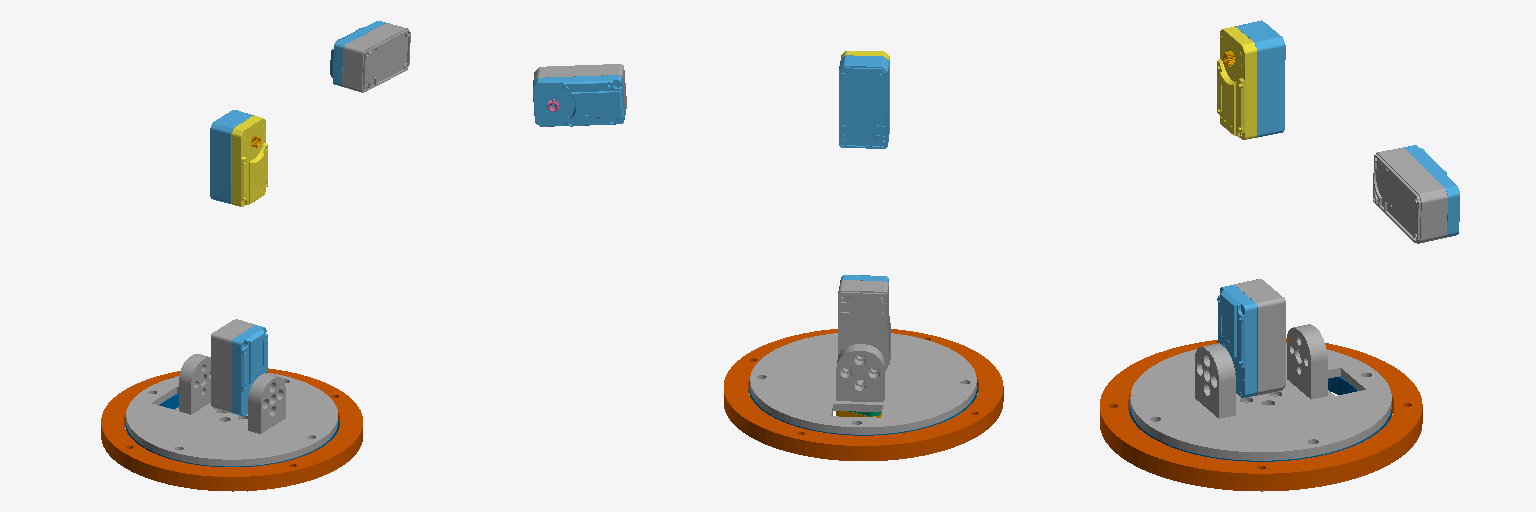
The robot description file, URDF, robot "PuppyArm":
<?xml version="1.0"?>
<robot name="PuppyArm">
  <link name="base_link"/>
  <link name="Part_1_3">
    <visual>
      <origin xyz="0 0 0" rpy="0 0 0"/>
      <geometry>
        <mesh filename="meshes/Part_1_3.stl"/>
      </geometry>
    </visual>
    <collision>
      <origin xyz="0 0 0" rpy="0 0 0"/>
      <geometry>
        <mesh filename="meshes/Part_1_3.stl"/>
      </geometry>
    </collision>
  </link>
  <link name="Part_1_8">
    <visual>
      <origin xyz="0 0 0" rpy="0 0 0"/>
      <geometry>
        <mesh filename="meshes/Part_1_8.stl"/>
      </geometry>
    </visual>
    <collision>
      <origin xyz="0 0 0" rpy="0 0 0"/>
      <geometry>
        <mesh filename="meshes/Part_1_8.stl"/>
      </geometry>
    </collision>
  </link>
  <link name="Part_1_1">
    <visual>
      <origin xyz="0 0 0" rpy="0 0 0"/>
      <geometry>
        <mesh filename="meshes/Part_1_1.stl"/>
      </geometry>
    </visual>
    <collision>
      <origin xyz="0 0 0" rpy="0 0 0"/>
      <geometry>
        <mesh filename="meshes/Part_1_1.stl"/>
      </geometry>
    </collision>
  </link>
  <link name="PCB_CHAZUO_92_1">
    <visual>
      <origin xyz="0 0 0" rpy="0 0 0"/>
      <geometry>
        <mesh filename="meshes/PCB_CHAZUO_92_1.stl"/>
      </geometry>
    </visual>
    <collision>
      <origin xyz="0 0 0" rpy="0 0 0"/>
      <geometry>
        <mesh filename="meshes/PCB_CHAZUO_92_1.stl"/>
      </geometry>
    </collision>
  </link>
  <link name="v2_1">
    <visual>
      <origin xyz="0 0 0" rpy="0 0 0"/>
      <geometry>
        <mesh filename="meshes/v2_1_2.stl"/>
      </geometry>
    </visual>
    <collision>
      <origin xyz="0 0 0" rpy="0 0 0"/>
      <geometry>
        <mesh filename="meshes/v2_1_2.stl"/>
      </geometry>
    </collision>
  </link>
  <link name="v2_1_2">
    <visual>
      <origin xyz="0 0 0" rpy="0 0 0"/>
      <geometry>
        <mesh filename="meshes/v2_1.stl"/>
      </geometry>
    </visual>
    <collision>
      <origin xyz="0 0 0" rpy="0 0 0"/>
      <geometry>
        <mesh filename="meshes/v2_1.stl"/>
      </geometry>
    </collision>
  </link>
  <link name="GE_27_1">
    <visual>
      <origin xyz="0 0 0" rpy="0 0 0"/>
      <geometry>
        <mesh filename="meshes/GE_27_1.stl"/>
      </geometry>
    </visual>
    <collision>
      <origin xyz="0 0 0" rpy="0 0 0"/>
      <geometry>
        <mesh filename="meshes/GE_27_1.stl"/>
      </geometry>
    </collision>
  </link>
  <link name="ZK_122_1">
    <visual>
      <origin xyz="0 0 0" rpy="0 0 0"/>
      <geometry>
        <mesh filename="meshes/ZK_122_1.stl"/>
      </geometry>
    </visual>
    <collision>
      <origin xyz="0 0 0" rpy="0 0 0"/>
      <geometry>
        <mesh filename="meshes/ZK_122_1.stl"/>
      </geometry>
    </collision>
  </link>
  <link name="MOTOR_1723_3_1">
    <visual>
      <origin xyz="0 0 0" rpy="0 0 0"/>
      <geometry>
        <mesh filename="meshes/MOTOR_1723_3_1.stl"/>
      </geometry>
    </visual>
    <collision>
      <origin xyz="0 0 0" rpy="0 0 0"/>
      <geometry>
        <mesh filename="meshes/MOTOR_1723_3_1.stl"/>
      </geometry>
    </collision>
  </link>
  <link name="SG_ZIJI_15_1">
    <visual>
      <origin xyz="0 0 0" rpy="0 0 0"/>
      <geometry>
        <mesh filename="meshes/SG_ZIJI_15_1.stl"/>
      </geometry>
    </visual>
    <collision>
      <origin xyz="0 0 0" rpy="0 0 0"/>
      <geometry>
        <mesh filename="meshes/SG_ZIJI_15_1.stl"/>
      </geometry>
    </collision>
  </link>
  <link name="XG_ZIJI_16_1">
    <visual>
      <origin xyz="0 0 0" rpy="0 0 0"/>
      <geometry>
        <mesh filename="meshes/XG_ZIJI_16_1.stl"/>
      </geometry>
    </visual>
    <collision>
      <origin xyz="0 0 0" rpy="0 0 0"/>
      <geometry>
        <mesh filename="meshes/XG_ZIJI_16_1.stl"/>
      </geometry>
    </collision>
  </link>
  <link name="Part_2_2">
    <visual>
      <origin xyz="0 0 0" rpy="0 0 0"/>
      <geometry>
        <mesh filename="meshes/Part_2_2.stl"/>
      </geometry>
    </visual>
    <collision>
      <origin xyz="0 0 0" rpy="0 0 0"/>
      <geometry>
        <mesh filename="meshes/Part_2_2.stl"/>
      </geometry>
    </collision>
  </link>
  <link name="Part_1_2">
    <visual>
      <origin xyz="0 0 0" rpy="0 0 0"/>
      <geometry>
        <mesh filename="meshes/Part_1_2_3.stl"/>
      </geometry>
    </visual>
    <collision>
      <origin xyz="0 0 0" rpy="0 0 0"/>
      <geometry>
        <mesh filename="meshes/Part_1_2_3.stl"/>
      </geometry>
    </collision>
  </link>
  <link name="Part_1_2_2">
    <visual>
      <origin xyz="0 0 0" rpy="0 0 0"/>
      <geometry>
        <mesh filename="meshes/Part_1_2_2.stl"/>
      </geometry>
    </visual>
    <collision>
      <origin xyz="0 0 0" rpy="0 0 0"/>
      <geometry>
        <mesh filename="meshes/Part_1_2_2.stl"/>
      </geometry>
    </collision>
  </link>
  <link name="Part_1_1_2">
    <visual>
      <origin xyz="0 0 0" rpy="0 0 0"/>
      <geometry>
        <mesh filename="meshes/Part_1_1_3.stl"/>
      </geometry>
    </visual>
    <collision>
      <origin xyz="0 0 0" rpy="0 0 0"/>
      <geometry>
        <mesh filename="meshes/Part_1_1_3.stl"/>
      </geometry>
    </collision>
  </link>
  <link name="Part_1_3_2">
    <visual>
      <origin xyz="0 0 0" rpy="0 0 0"/>
      <geometry>
        <mesh filename="meshes/Part_1_2.stl"/>
      </geometry>
    </visual>
    <collision>
      <origin xyz="0 0 0" rpy="0 0 0"/>
      <geometry>
        <mesh filename="meshes/Part_1_2.stl"/>
      </geometry>
    </collision>
  </link>
  <link name="Part_1_1_3">
    <visual>
      <origin xyz="0 0 0" rpy="0 0 0"/>
      <geometry>
        <mesh filename="meshes/Part_1_1_2.stl"/>
      </geometry>
    </visual>
    <collision>
      <origin xyz="0 0 0" rpy="0 0 0"/>
      <geometry>
        <mesh filename="meshes/Part_1_1_2.stl"/>
      </geometry>
    </collision>
  </link>
  <link name="Part_1_2_3">
    <visual>
      <origin xyz="0 0 0" rpy="0 0 0"/>
      <geometry>
        <mesh filename="meshes/Part_1_2.stl"/>
      </geometry>
    </visual>
    <collision>
      <origin xyz="0 0 0" rpy="0 0 0"/>
      <geometry>
        <mesh filename="meshes/Part_1_2.stl"/>
      </geometry>
    </collision>
  </link>
  <link name="PCB_CHAZUO_92_1_2">
    <visual>
      <origin xyz="0 0 0" rpy="0 0 0"/>
      <geometry>
        <mesh filename="meshes/PCB_CHAZUO_92_1.stl"/>
      </geometry>
    </visual>
    <collision>
      <origin xyz="0 0 0" rpy="0 0 0"/>
      <geometry>
        <mesh filename="meshes/PCB_CHAZUO_92_1.stl"/>
      </geometry>
    </collision>
  </link>
  <link name="v2_1_3">
    <visual>
      <origin xyz="0 0 0" rpy="0 0 0"/>
      <geometry>
        <mesh filename="meshes/v2_1_2.stl"/>
      </geometry>
    </visual>
    <collision>
      <origin xyz="0 0 0" rpy="0 0 0"/>
      <geometry>
        <mesh filename="meshes/v2_1_2.stl"/>
      </geometry>
    </collision>
  </link>
  <link name="v2_1_4">
    <visual>
      <origin xyz="0 0 0" rpy="0 0 0"/>
      <geometry>
        <mesh filename="meshes/v2_1.stl"/>
      </geometry>
    </visual>
    <collision>
      <origin xyz="0 0 0" rpy="0 0 0"/>
      <geometry>
        <mesh filename="meshes/v2_1.stl"/>
      </geometry>
    </collision>
  </link>
  <link name="GE_27_1_2">
    <visual>
      <origin xyz="0 0 0" rpy="0 0 0"/>
      <geometry>
        <mesh filename="meshes/GE_27_1.stl"/>
      </geometry>
    </visual>
    <collision>
      <origin xyz="0 0 0" rpy="0 0 0"/>
      <geometry>
        <mesh filename="meshes/GE_27_1.stl"/>
      </geometry>
    </collision>
  </link>
  <link name="ZK_122_1_2">
    <visual>
      <origin xyz="0 0 0" rpy="0 0 0"/>
      <geometry>
        <mesh filename="meshes/ZK_122_1.stl"/>
      </geometry>
    </visual>
    <collision>
      <origin xyz="0 0 0" rpy="0 0 0"/>
      <geometry>
        <mesh filename="meshes/ZK_122_1.stl"/>
      </geometry>
    </collision>
  </link>
  <link name="MOTOR_1723_3_1_2">
    <visual>
      <origin xyz="0 0 0" rpy="0 0 0"/>
      <geometry>
        <mesh filename="meshes/MOTOR_1723_3_1.stl"/>
      </geometry>
    </visual>
    <collision>
      <origin xyz="0 0 0" rpy="0 0 0"/>
      <geometry>
        <mesh filename="meshes/MOTOR_1723_3_1.stl"/>
      </geometry>
    </collision>
  </link>
  <link name="SG_ZIJI_15_1_2">
    <visual>
      <origin xyz="0 0 0" rpy="0 0 0"/>
      <geometry>
        <mesh filename="meshes/SG_ZIJI_15_1.stl"/>
      </geometry>
    </visual>
    <collision>
      <origin xyz="0 0 0" rpy="0 0 0"/>
      <geometry>
        <mesh filename="meshes/SG_ZIJI_15_1.stl"/>
      </geometry>
    </collision>
  </link>
  <link name="XG_ZIJI_16_1_2">
    <visual>
      <origin xyz="0 0 0" rpy="0 0 0"/>
      <geometry>
        <mesh filename="meshes/XG_ZIJI_16_1.stl"/>
      </geometry>
    </visual>
    <collision>
      <origin xyz="0 0 0" rpy="0 0 0"/>
      <geometry>
        <mesh filename="meshes/XG_ZIJI_16_1.stl"/>
      </geometry>
    </collision>
  </link>
  <link name="PCB_CHAZUO_92_1_3">
    <visual>
      <origin xyz="0 0 0" rpy="0 0 0"/>
      <geometry>
        <mesh filename="meshes/PCB_CHAZUO_92_1.stl"/>
      </geometry>
    </visual>
    <collision>
      <origin xyz="0 0 0" rpy="0 0 0"/>
      <geometry>
        <mesh filename="meshes/PCB_CHAZUO_92_1.stl"/>
      </geometry>
    </collision>
  </link>
  <link name="v2_1_5">
    <visual>
      <origin xyz="0 0 0" rpy="0 0 0"/>
      <geometry>
        <mesh filename="meshes/v2_1_2.stl"/>
      </geometry>
    </visual>
    <collision>
      <origin xyz="0 0 0" rpy="0 0 0"/>
      <geometry>
        <mesh filename="meshes/v2_1_2.stl"/>
      </geometry>
    </collision>
  </link>
  <link name="v2_1_6">
    <visual>
      <origin xyz="0 0 0" rpy="0 0 0"/>
      <geometry>
        <mesh filename="meshes/v2_1.stl"/>
      </geometry>
    </visual>
    <collision>
      <origin xyz="0 0 0" rpy="0 0 0"/>
      <geometry>
        <mesh filename="meshes/v2_1.stl"/>
      </geometry>
    </collision>
  </link>
  <link name="GE_27_1_3">
    <visual>
      <origin xyz="0 0 0" rpy="0 0 0"/>
      <geometry>
        <mesh filename="meshes/GE_27_1.stl"/>
      </geometry>
    </visual>
    <collision>
      <origin xyz="0 0 0" rpy="0 0 0"/>
      <geometry>
        <mesh filename="meshes/GE_27_1.stl"/>
      </geometry>
    </collision>
  </link>
  <link name="ZK_122_1_3">
    <visual>
      <origin xyz="0 0 0" rpy="0 0 0"/>
      <geometry>
        <mesh filename="meshes/ZK_122_1.stl"/>
      </geometry>
    </visual>
    <collision>
      <origin xyz="0 0 0" rpy="0 0 0"/>
      <geometry>
        <mesh filename="meshes/ZK_122_1.stl"/>
      </geometry>
    </collision>
  </link>
  <link name="MOTOR_1723_3_1_3">
    <visual>
      <origin xyz="0 0 0" rpy="0 0 0"/>
      <geometry>
        <mesh filename="meshes/MOTOR_1723_3_1.stl"/>
      </geometry>
    </visual>
    <collision>
      <origin xyz="0 0 0" rpy="0 0 0"/>
      <geometry>
        <mesh filename="meshes/MOTOR_1723_3_1.stl"/>
      </geometry>
    </collision>
  </link>
  <link name="SG_ZIJI_15_1_3">
    <visual>
      <origin xyz="0 0 0" rpy="0 0 0"/>
      <geometry>
        <mesh filename="meshes/SG_ZIJI_15_1.stl"/>
      </geometry>
    </visual>
    <collision>
      <origin xyz="0 0 0" rpy="0 0 0"/>
      <geometry>
        <mesh filename="meshes/SG_ZIJI_15_1.stl"/>
      </geometry>
    </collision>
  </link>
  <link name="XG_ZIJI_16_1_3">
    <visual>
      <origin xyz="0 0 0" rpy="0 0 0"/>
      <geometry>
        <mesh filename="meshes/XG_ZIJI_16_1.stl"/>
      </geometry>
    </visual>
    <collision>
      <origin xyz="0 0 0" rpy="0 0 0"/>
      <geometry>
        <mesh filename="meshes/XG_ZIJI_16_1.stl"/>
      </geometry>
    </collision>
  </link>
  <link name="Part_1_1_4">
    <visual>
      <origin xyz="0 0 0" rpy="0 0 0"/>
      <geometry>
        <mesh filename="meshes/Part_1_1_4.stl"/>
      </geometry>
    </visual>
    <collision>
      <origin xyz="0 0 0" rpy="0 0 0"/>
      <geometry>
        <mesh filename="meshes/Part_1_1_4.stl"/>
      </geometry>
    </collision>
  </link>
  <link name="Part_1_2_4">
    <visual>
      <origin xyz="0 0 0" rpy="0 0 0"/>
      <geometry>
        <mesh filename="meshes/Part_1_2.stl"/>
      </geometry>
    </visual>
    <collision>
      <origin xyz="0 0 0" rpy="0 0 0"/>
      <geometry>
        <mesh filename="meshes/Part_1_2.stl"/>
      </geometry>
    </collision>
  </link>
  <link name="PCB_CHAZUO_92_1_4">
    <visual>
      <origin xyz="0 0 0" rpy="0 0 0"/>
      <geometry>
        <mesh filename="meshes/PCB_CHAZUO_92_1.stl"/>
      </geometry>
    </visual>
    <collision>
      <origin xyz="0 0 0" rpy="0 0 0"/>
      <geometry>
        <mesh filename="meshes/PCB_CHAZUO_92_1.stl"/>
      </geometry>
    </collision>
  </link>
  <link name="v2_1_7">
    <visual>
      <origin xyz="0 0 0" rpy="0 0 0"/>
      <geometry>
        <mesh filename="meshes/v2_1_2.stl"/>
      </geometry>
    </visual>
    <collision>
      <origin xyz="0 0 0" rpy="0 0 0"/>
      <geometry>
        <mesh filename="meshes/v2_1_2.stl"/>
      </geometry>
    </collision>
  </link>
  <link name="v2_1_8">
    <visual>
      <origin xyz="0 0 0" rpy="0 0 0"/>
      <geometry>
        <mesh filename="meshes/v2_1.stl"/>
      </geometry>
    </visual>
    <collision>
      <origin xyz="0 0 0" rpy="0 0 0"/>
      <geometry>
        <mesh filename="meshes/v2_1.stl"/>
      </geometry>
    </collision>
  </link>
  <link name="GE_27_1_4">
    <visual>
      <origin xyz="0 0 0" rpy="0 0 0"/>
      <geometry>
        <mesh filename="meshes/GE_27_1.stl"/>
      </geometry>
    </visual>
    <collision>
      <origin xyz="0 0 0" rpy="0 0 0"/>
      <geometry>
        <mesh filename="meshes/GE_27_1.stl"/>
      </geometry>
    </collision>
  </link>
  <link name="ZK_122_1_4">
    <visual>
      <origin xyz="0 0 0" rpy="0 0 0"/>
      <geometry>
        <mesh filename="meshes/ZK_122_1.stl"/>
      </geometry>
    </visual>
    <collision>
      <origin xyz="0 0 0" rpy="0 0 0"/>
      <geometry>
        <mesh filename="meshes/ZK_122_1.stl"/>
      </geometry>
    </collision>
  </link>
  <link name="MOTOR_1723_3_1_4">
    <visual>
      <origin xyz="0 0 0" rpy="0 0 0"/>
      <geometry>
        <mesh filename="meshes/MOTOR_1723_3_1.stl"/>
      </geometry>
    </visual>
    <collision>
      <origin xyz="0 0 0" rpy="0 0 0"/>
      <geometry>
        <mesh filename="meshes/MOTOR_1723_3_1.stl"/>
      </geometry>
    </collision>
  </link>
  <link name="SG_ZIJI_15_1_4">
    <visual>
      <origin xyz="0 0 0" rpy="0 0 0"/>
      <geometry>
        <mesh filename="meshes/SG_ZIJI_15_1.stl"/>
      </geometry>
    </visual>
    <collision>
      <origin xyz="0 0 0" rpy="0 0 0"/>
      <geometry>
        <mesh filename="meshes/SG_ZIJI_15_1.stl"/>
      </geometry>
    </collision>
  </link>
  <link name="XG_ZIJI_16_1_4">
    <visual>
      <origin xyz="0 0 0" rpy="0 0 0"/>
      <geometry>
        <mesh filename="meshes/XG_ZIJI_16_1.stl"/>
      </geometry>
    </visual>
    <collision>
      <origin xyz="0 0 0" rpy="0 0 0"/>
      <geometry>
        <mesh filename="meshes/XG_ZIJI_16_1.stl"/>
      </geometry>
    </collision>
  </link>
  <joint name="Fastened_8" type="fixed">
    <parent link="XG_ZIJI_16_1"/>
    <child link="Part_1_8"/>
    <origin xyz="-0.0255 -0.0316 0" rpy="-1.570796 1.570796 0"/>
  </joint>
  <joint name="Fastened_7" type="fixed">
    <parent link="Part_1_8"/>
    <child link="Part_1_3"/>
    <origin xyz="0 0.00075 0.0295" rpy="0 0 0"/>
  </joint>
  <joint name="Fastened_16" type="fixed">
    <parent link="Part_1_3"/>
    <child link="Part_1_2"/>
    <origin xyz="0 0 0.003" rpy="0 0 0"/>
  </joint>
  <joint name="Fastened_1" type="fixed">
    <parent link="Part_1_1_2"/>
    <child link="Part_2_2"/>
    <origin xyz="0 0 -0.0085" rpy="0 0 -1.570796"/>
  </joint>
  <joint name="Fastened_2" type="fixed">
    <parent link="Part_1_1"/>
    <child link="Part_1_2_2"/>
    <origin xyz="0.02565 0 0" rpy="-3.141593 0 0"/>
  </joint>
  <joint name="Revolute_1" type="revolute">
    <parent link="v2_1"/>
    <child link="SG_ZIJI_15_1"/>
    <origin xyz="0.03438 0.0177 -0.007473" rpy="0 0.29743 0"/>
    <axis xyz="0 -1 0"/>
  </joint>
  <joint name="Revolute_2" type="revolute">
    <parent link="v2_1_2"/>
    <child link="XG_ZIJI_16_1"/>
    <origin xyz="0.019011 -0.04945 -0.023855" rpy="-3.141593 1.209602 0"/>
    <axis xyz="0 1 0"/>
  </joint>
  <joint name="Fastened_1_2" type="fixed">
    <parent link="SG_ZIJI_15_1_3"/>
    <child link="Part_1_3_2"/>
    <origin xyz="0.0115 -0.0096 -0.00025" rpy="-1.570796 0 1.570796"/>
  </joint>
  <joint name="Fastened_2_2" type="fixed">
    <parent link="SG_ZIJI_15_1_4"/>
    <child link="Part_1_2_3"/>
    <origin xyz="0.0115 -0.0096 -0.00025" rpy="-1.570796 0 1.570796"/>
  </joint>
  <joint name="Fastened_3" type="fixed">
    <parent link="v2_1_5"/>
    <child link="Part_1_1_2"/>
    <origin xyz="0.01 0.00875 -0.02" rpy="0 0 -1.570796"/>
  </joint>
  <joint name="Fastened_4" type="fixed">
    <parent link="Part_1_1_4"/>
    <child link="v2_1_7"/>
    <origin xyz="0.0085 0.073 0.0145" rpy="0 0 1.570796"/>
  </joint>
  <joint name="Fastened_5" type="fixed">
    <parent link="SG_ZIJI_15_1_2"/>
    <child link="Part_1_2_4"/>
    <origin xyz="0.0115 -0.0096 -0.00025" rpy="-1.570796 0 1.570796"/>
  </joint>
  <joint name="Fastened_6" type="fixed">
    <parent link="Part_1_2_2"/>
    <child link="v2_1_3"/>
    <origin xyz="0.0085 0.01 0.032" rpy="-3.141593 0 -1.570796"/>
  </joint>
  <joint name="Fastened_1_3" type="fixed">
    <parent link="Part_1_2_3"/>
    <child link="Part_1_1_3"/>
    <origin xyz="0 0.0145 -0.0375" rpy="0 0 0"/>
  </joint>
  <joint name="Revolute_1_2" type="revolute">
    <parent link="v2_1_5"/>
    <child link="SG_ZIJI_15_1_3"/>
    <origin xyz="0.009948 0.0177 0.0255" rpy="-3.141593 -1.568773 -3.141593"/>
    <axis xyz="0 -1 0"/>
  </joint>
  <joint name="Revolute_2_2" type="revolute">
    <parent link="v2_1_6"/>
    <child link="XG_ZIJI_16_1_3"/>
    <origin xyz="0.007532 -0.04945 0.02538" rpy="0 -1.473845 3.141593"/>
    <axis xyz="0 1 0"/>
  </joint>
  <joint name="Revolute_1_3" type="revolute">
    <parent link="v2_1_7"/>
    <child link="SG_ZIJI_15_1_4"/>
    <origin xyz="0.008285 0.0177 -0.025442" rpy="-3.141593 1.5035 3.141593"/>
    <axis xyz="0 -1 0"/>
  </joint>
  <joint name="Revolute_2_3" type="revolute">
    <parent link="v2_1_8"/>
    <child link="XG_ZIJI_16_1_4"/>
    <origin xyz="0.012364 -0.04945 -0.02539" rpy="3.141593 1.47795 0"/>
    <axis xyz="0 1 0"/>
  </joint>
  <joint name="Fastened_1_4" type="fixed">
    <parent link="Part_1_2_4"/>
    <child link="Part_1_1_4"/>
    <origin xyz="0 -0.0145 -0.035" rpy="-1.570796 0 0"/>
  </joint>
  <joint name="Revolute_1_4" type="revolute">
    <parent link="v2_1_3"/>
    <child link="SG_ZIJI_15_1_2"/>
    <origin xyz="0.03536 0.0177 0.002667" rpy="0 -0.104793 0"/>
    <axis xyz="0 -1 0"/>
  </joint>
  <joint name="Revolute_2_4" type="revolute">
    <parent link="v2_1_4"/>
    <child link="XG_ZIJI_16_1_2"/>
    <origin xyz="-0.015077 -0.04945 0.004624" rpy="0 -0.18235 -3.141593"/>
    <axis xyz="0 1 0"/>
  </joint>
  <joint name="Part_1_1_joint" type="fixed">
    <parent link="base_link"/>
    <child link="Part_1_1"/>
    <origin xyz="0.071188 0.078371 0.013477" rpy="2.96748 0 -1.110507"/>
  </joint>
  <joint name="PCB_CHAZUO_92_1_joint" type="fixed">
    <parent link="base_link"/>
    <child link="PCB_CHAZUO_92_1"/>
    <origin xyz="-0.050308 -0.03757 -0.122423" rpy="1.570796 0 -1.563327"/>
  </joint>
  <joint name="v2_1_joint" type="fixed">
    <parent link="base_link"/>
    <child link="v2_1"/>
    <origin xyz="-0.047639 -0.002488 -0.140123" rpy="1.570796 0 -1.860757"/>
  </joint>
  <joint name="v2_1_2_joint" type="fixed">
    <parent link="base_link"/>
    <child link="v2_1_2"/>
    <origin xyz="-0.059879 -0.008606 -0.171873" rpy="-1.570796 0 -0.353725"/>
  </joint>
  <joint name="GE_27_1_joint" type="fixed">
    <parent link="base_link"/>
    <child link="GE_27_1"/>
    <origin xyz="-0.050498 -0.01207 -0.128423" rpy="3.141593 0 -1.563327"/>
  </joint>
  <joint name="ZK_122_1_joint" type="fixed">
    <parent link="base_link"/>
    <child link="ZK_122_1"/>
    <origin xyz="-0.050308 -0.03757 -0.122423" rpy="1.570796 0 -1.563327"/>
  </joint>
  <joint name="MOTOR_1723_3_1_joint" type="fixed">
    <parent link="base_link"/>
    <child link="MOTOR_1723_3_1"/>
    <origin xyz="-0.049058 -0.03756 -0.145273" rpy="1.570796 0 0.007469"/>
  </joint>
  <joint name="PCB_CHAZUO_92_1_2_joint" type="fixed">
    <parent link="base_link"/>
    <child link="PCB_CHAZUO_92_1_2"/>
    <origin xyz="0.060671 0.054795 0.046759" rpy="3.141593 -0.069319 -2.681304"/>
  </joint>
  <joint name="v2_1_4_joint" type="fixed">
    <parent link="base_link"/>
    <child link="v2_1_4"/>
    <origin xyz="0.096751 0.01749 0.047483" rpy="-3.141593 0.251669 0.460289"/>
  </joint>
  <joint name="GE_27_1_2_joint" type="fixed">
    <parent link="base_link"/>
    <child link="GE_27_1_2"/>
    <origin xyz="0.086127 0.06072 0.044993" rpy="-1.570796 -0.069319 -2.681304"/>
  </joint>
  <joint name="ZK_122_1_2_joint" type="fixed">
    <parent link="base_link"/>
    <child link="ZK_122_1_2"/>
    <origin xyz="0.060671 0.054795 0.046759" rpy="3.141593 -0.069319 -2.681304"/>
  </joint>
  <joint name="MOTOR_1723_3_1_2_joint" type="fixed">
    <parent link="base_link"/>
    <child link="MOTOR_1723_3_1_2"/>
    <origin xyz="0.070899 0.034362 0.048006" rpy="0 -1.501477 0.460289"/>
  </joint>
  <joint name="PCB_CHAZUO_92_1_3_joint" type="fixed">
    <parent link="base_link"/>
    <child link="PCB_CHAZUO_92_1_3"/>
    <origin xyz="-0.046482 -0.019316 -0.067523" rpy="-3.141593 -1.568773 0.460289"/>
  </joint>
  <joint name="v2_1_5_joint" type="fixed">
    <parent link="base_link"/>
    <child link="v2_1_5"/>
    <origin xyz="-0.045431 0.000961 -0.093023" rpy="0 0 -2.681304"/>
  </joint>
  <joint name="v2_1_6_joint" type="fixed">
    <parent link="base_link"/>
    <child link="v2_1_6"/>
    <origin xyz="-0.07741 0.020544 -0.092034" rpy="0 0.098974 0.460289"/>
  </joint>
  <joint name="GE_27_1_3_joint" type="fixed">
    <parent link="base_link"/>
    <child link="GE_27_1_3"/>
    <origin xyz="-0.049193 -0.013963 -0.093023" rpy="-1.570796 -1.568773 0.460289"/>
  </joint>
  <joint name="ZK_122_1_3_joint" type="fixed">
    <parent link="base_link"/>
    <child link="ZK_122_1_3"/>
    <origin xyz="-0.046482 -0.019316 -0.067523" rpy="-3.141593 -1.568773 0.460289"/>
  </joint>
  <joint name="MOTOR_1723_3_1_3_joint" type="fixed">
    <parent link="base_link"/>
    <child link="MOTOR_1723_3_1_3"/>
    <origin xyz="-0.057752 0.000601 -0.06752" rpy="0 -0.002023 -2.681304"/>
  </joint>
  <joint name="PCB_CHAZUO_92_1_4_joint" type="fixed">
    <parent link="base_link"/>
    <child link="PCB_CHAZUO_92_1_4"/>
    <origin xyz="-0.046752 -0.01945 0.030478" rpy="0 1.568773 -2.681304"/>
  </joint>
  <joint name="v2_1_8_joint" type="fixed">
    <parent link="base_link"/>
    <child link="v2_1_8"/>
    <origin xyz="-0.077591 0.020454 0.056925" rpy="0 0.09487 0.460289"/>
  </joint>
  <joint name="GE_27_1_4_joint" type="fixed">
    <parent link="base_link"/>
    <child link="GE_27_1_4"/>
    <origin xyz="-0.049371 -0.014051 0.055978" rpy="1.570796 1.568773 -2.681304"/>
  </joint>
  <joint name="ZK_122_1_4_joint" type="fixed">
    <parent link="base_link"/>
    <child link="ZK_122_1_4"/>
    <origin xyz="-0.046752 -0.01945 0.030478" rpy="0 1.568773 -2.681304"/>
  </joint>
  <joint name="MOTOR_1723_3_1_4_joint" type="fixed">
    <parent link="base_link"/>
    <child link="MOTOR_1723_3_1_4"/>
    <origin xyz="-0.055782 0.001577 0.030476" rpy="-3.141593 0.002023 0.460289"/>
  </joint>
</robot>

--- Render facts (derived) ---
The picture shows the robot from 3 angles, left to right: view 1: azimuth 30°, elevation 25°; view 2: azimuth 150°, elevation 25°; view 3: azimuth 270°, elevation 25°; orthographic projection.
Model PuppyArm with 45 links and 44 joints (8 revolute, 36 fixed), rooted at base_link, posed every joint at zero.
Links seen in each view (by area): view 1: Part_1_1_2, Part_1_2, ZK_122_1_2, SG_ZIJI_15_1_4, SG_ZIJI_15_1_3, ZK_122_1_4, ZK_122_1_3, SG_ZIJI_15_1_2; view 2: Part_1_1_2, Part_1_2, ZK_122_1_4, SG_ZIJI_15_1_2, ZK_122_1_3, ZK_122_1_2; view 3: Part_1_1_2, Part_1_2, ZK_122_1_2, SG_ZIJI_15_1_4, ZK_122_1_3, SG_ZIJI_15_1_3, ZK_122_1_4, SG_ZIJI_15_1_2, Part_2_2.
Boxes of the visible links, x1,y1,x2,y2 form: Part_1_1_2: (126, 354, 337, 466); Part_1_2: (101, 368, 362, 491); ZK_122_1_2: (342, 23, 410, 92); SG_ZIJI_15_1_4: (231, 115, 267, 206); SG_ZIJI_15_1_3: (232, 325, 267, 416); ZK_122_1_4: (210, 110, 253, 203); ZK_122_1_3: (211, 319, 254, 413); SG_ZIJI_15_1_2: (330, 21, 385, 86); Part_1_1_2: (750, 323, 976, 434); Part_1_2: (724, 329, 1003, 460); ZK_122_1_4: (839, 55, 888, 148); SG_ZIJI_15_1_2: (533, 75, 624, 126); ZK_122_1_3: (838, 280, 888, 370); ZK_122_1_2: (533, 64, 626, 114); Part_1_1_2: (1130, 324, 1391, 460); Part_1_2: (1100, 338, 1422, 491); ZK_122_1_2: (1373, 147, 1447, 243); SG_ZIJI_15_1_4: (1217, 26, 1256, 139); ZK_122_1_3: (1234, 279, 1285, 395); SG_ZIJI_15_1_3: (1217, 285, 1256, 397); ZK_122_1_4: (1235, 20, 1285, 137); SG_ZIJI_15_1_2: (1404, 145, 1459, 237); Part_2_2: (1130, 376, 1391, 461).
Bounding box of the posed robot: 0.2198 × 0.1564 × 0.2036 m (x, y, z).
Meshes: 18 distinct files referenced, 15 mesh visuals loaded (6 binary STL); not drawn: 29 (reference not matched to a file when rendering).